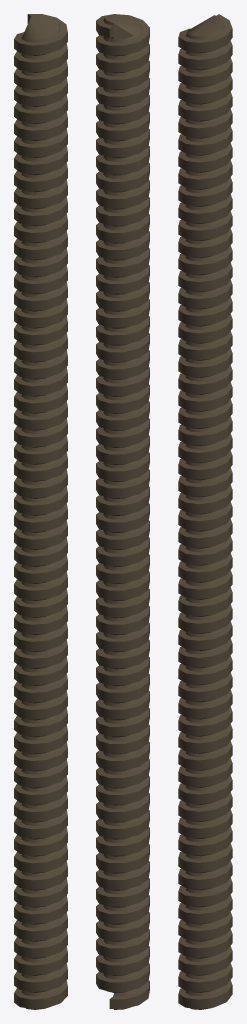
The model's file is hosecolour.fbx.
3 views of the same model, side by side, from view 1: azimuth 30°, elevation 25°; view 2: azimuth 150°, elevation 25°; view 3: azimuth 330°, elevation 25° (orthographic).
Parts seen in each view (by area): view 1: Vert.002; view 2: Vert.002; view 3: Vert.002.
Part boxes in pixels (x1,y1,x2,y2): Vert.002: (14, 14, 67, 1009); Vert.002: (96, 14, 149, 1009); Vert.002: (178, 14, 232, 1009).
Bounding box in the file's own units: 12.08 × 244 × 11.96.
